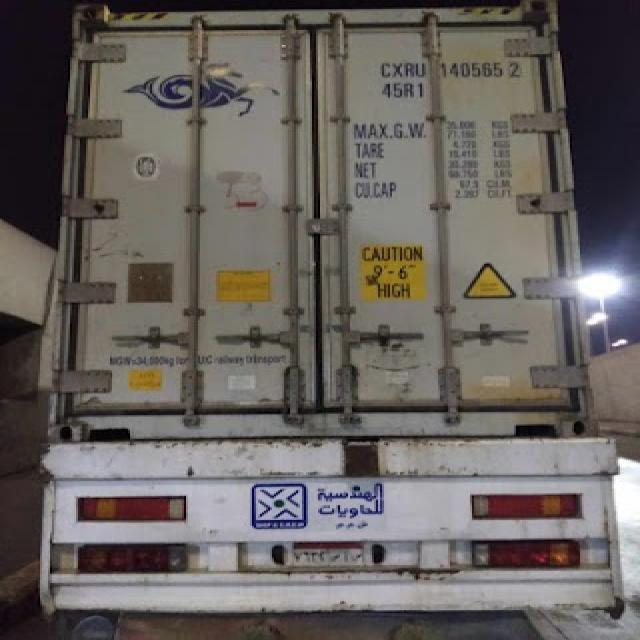ISO: (386, 84, 430, 100)
container_number: (382, 61, 524, 80)
